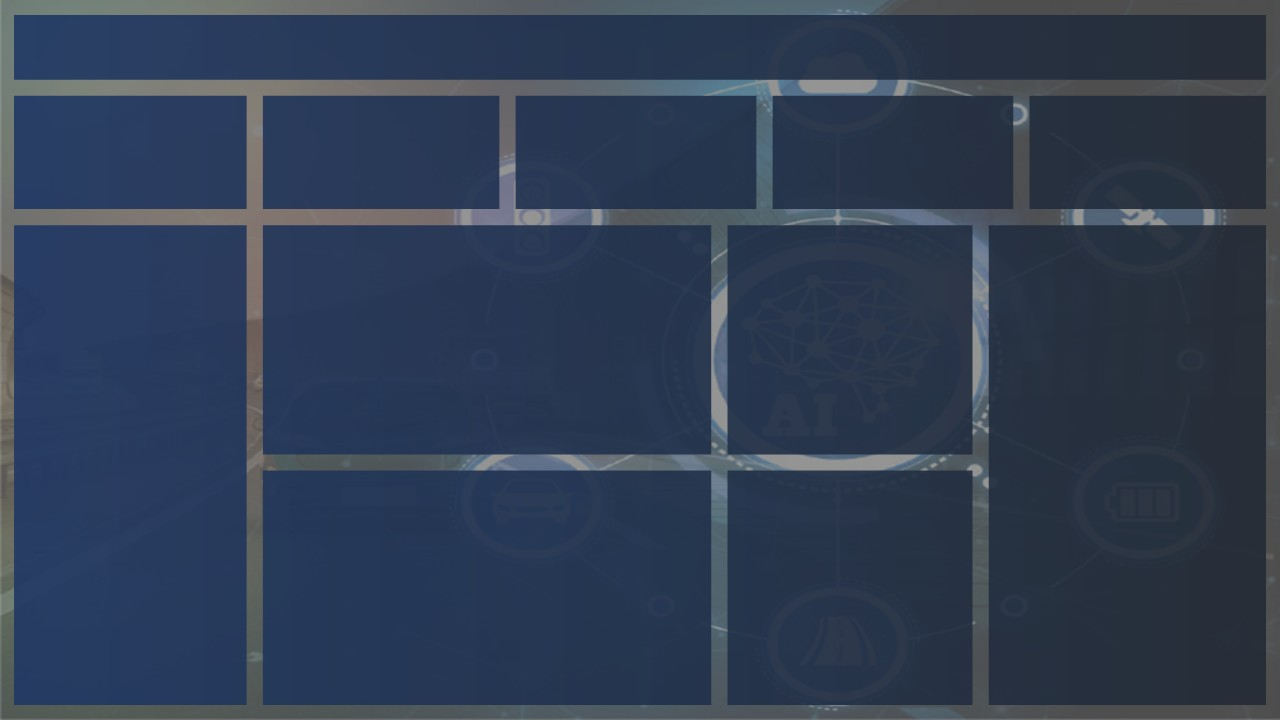

Layout of this report page (visuals, bound fields, positions):
{"tool":"powerbi","page":{"name":"PAGE1","canvas":[1280,720],"ordinal":0},"visuals":[{"type":"textbox","box":[11,13.7,448.7,57.6],"z":0},{"type":"clusteredColumnChart","title":"Profit by Month","fields":{"Y":["Sum(Sheet1.Profit)"],"Category":["Orders.Order Date.Variation.Date Hierarchy.Month"]},"box":[705.6,85.6,562.5,357.1],"z":1000},{"type":"barChart","title":"profit by Sub-Category","fields":{"Category":["Sheet1.Sub-Category"],"Y":["Sum(Sheet1.Profit)"]},"box":[714.1,462.2,553.9,258],"z":2000},{"type":"pieChart","title":" Quantity by Category","fields":{"Category":["Sheet1.Category"],"Y":["Sum(Sheet1.Quantity)"]},"box":[320.4,184.6,353.4,258],"z":3000},{"type":"donutChart","title":" Quantity by PaymentMode","fields":{"Category":["Sheet1.PaymentMode"],"Y":["Sum(Sheet1.Quantity)"]},"box":[319.7,462.4,352.7,258],"z":4000},{"type":"card","fields":{"Values":["Sum(Sheet1.Amount)"]},"box":[11,85.6,143.1,79.5],"z":5000},{"type":"card","fields":{"Values":["Sum(Sheet1.Profit)"]},"box":[193.2,85.6,141.8,79.5],"z":6000},{"type":"card","fields":{"Values":["Sum(Sheet1.Quantity)"]},"box":[364.4,85.6,143.1,79.5],"z":7000},{"type":"card","fields":{"Values":["Sum(Sheet1.AVD)"]},"box":[540.5,85.6,133.3,79.5],"z":8000},{"type":"barChart","title":"Amount by State","fields":{"Y":["Sum(Sheet1.Amount)"],"Category":["Orders.State"]},"box":[4.1,185.2,300.5,258],"z":9000},{"type":"columnChart","title":"Amount by CustomerName","fields":{"Category":["Orders.CustomerName"],"Y":["Sum(Sheet1.Amount)"]},"box":[4,462,301,258],"z":10000},{"type":"slicer","fields":{"Values":["Orders.Order Date.Variation.Date Hierarchy.Quarter"]},"box":[484.4,13.7,354,57.6],"z":11000},{"type":"slicer","fields":{"Values":["Orders.State"]},"box":[876.8,0,338.7,72.1],"z":12000}]}

Visuals, with their boxes in screenshot pixels (x1, y1, x2, y2), scaled from the page's 1280x720 canvas onto the 1280x720 screenshot:
textbox: [left=11, top=14, right=460, bottom=71]
"Profit by Month" clusteredColumnChart: [left=706, top=86, right=1268, bottom=443]
"profit by Sub-Category" barChart: [left=714, top=462, right=1268, bottom=719]
" Quantity by Category" pieChart: [left=320, top=185, right=674, bottom=443]
" Quantity by PaymentMode" donutChart: [left=320, top=462, right=672, bottom=719]
card - Sum(Sheet1.Amount): [left=11, top=86, right=154, bottom=165]
card - Sum(Sheet1.Profit): [left=193, top=86, right=335, bottom=165]
card - Sum(Sheet1.Quantity): [left=364, top=86, right=508, bottom=165]
card - Sum(Sheet1.AVD): [left=540, top=86, right=674, bottom=165]
"Amount by State" barChart: [left=4, top=185, right=305, bottom=443]
"Amount by CustomerName" columnChart: [left=4, top=462, right=305, bottom=719]
slicer - Orders.Order Date.Variation.Date Hierarchy.Quarter: [left=484, top=14, right=838, bottom=71]
slicer - Orders.State: [left=877, top=0, right=1216, bottom=72]
